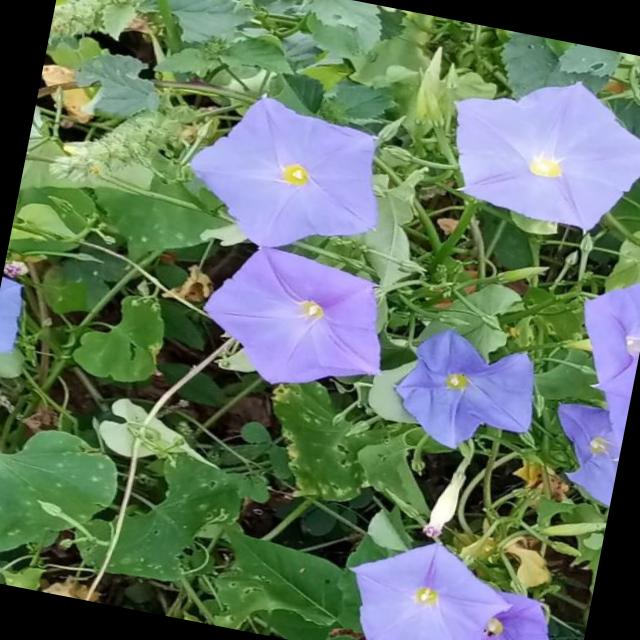ipomoea: (173, 82, 401, 270), (430, 56, 640, 247), (188, 235, 402, 408), (380, 318, 550, 466), (330, 524, 522, 640)
